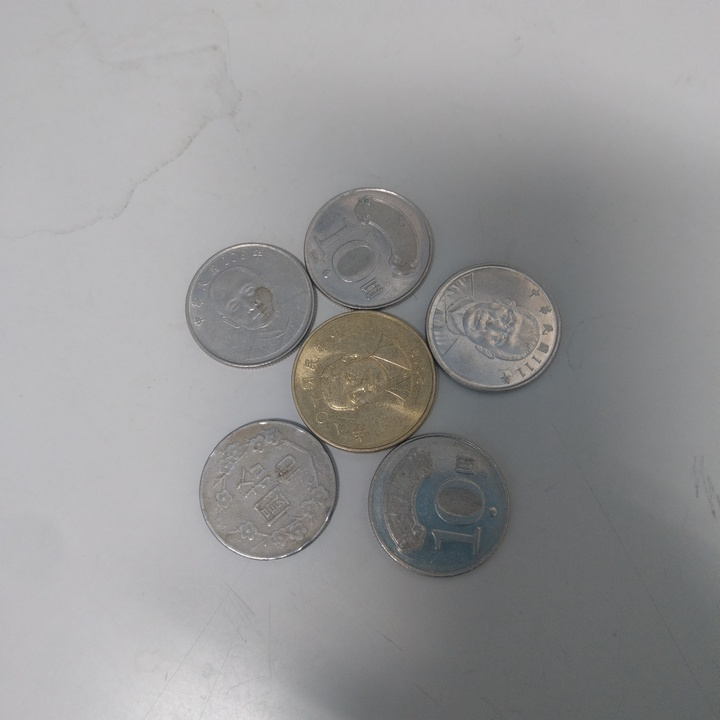10 dollar: (369, 437, 518, 582), (198, 419, 341, 563), (426, 263, 561, 396), (186, 245, 317, 369), (304, 187, 433, 311)
50 dollar: (289, 307, 441, 455)
